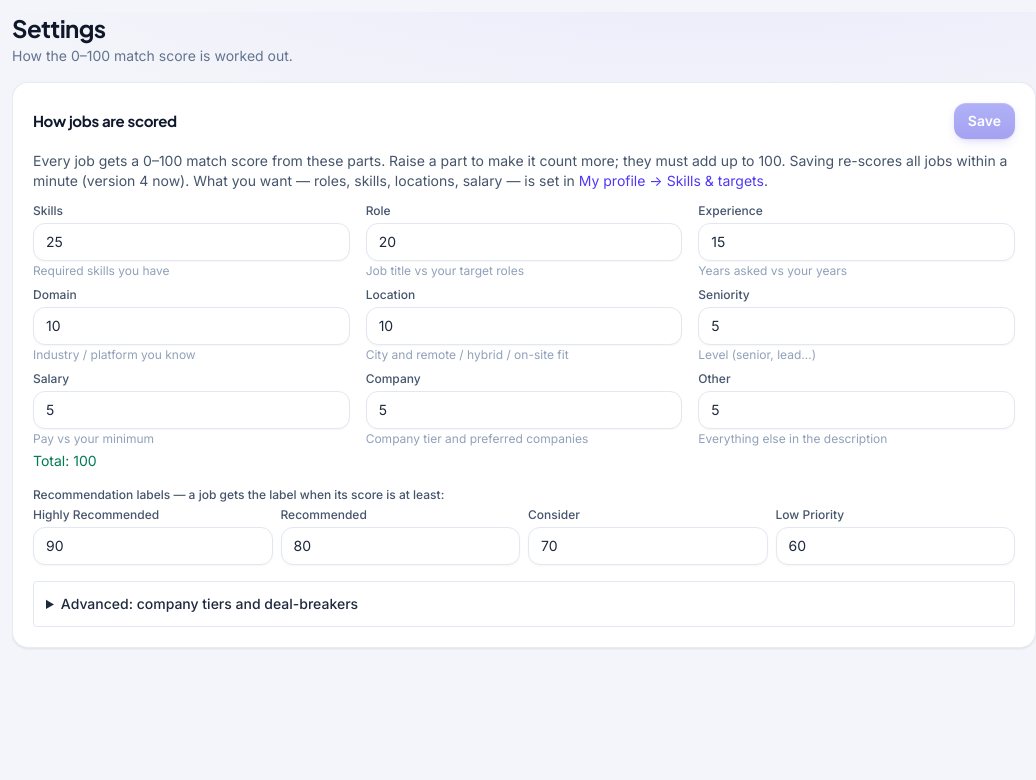
Scenario: settings › scoring: explains each part, saves only real changes, can undo
This screenshot has width=1036, height=780.
Expected: the text "Required skills you have" is shown, [33,263,170,278]
Expected: the button "Save" is disabled, [954,103,1015,139]
Clear the number field named "Skills weight" at (191, 242), box [33,223,350,261]
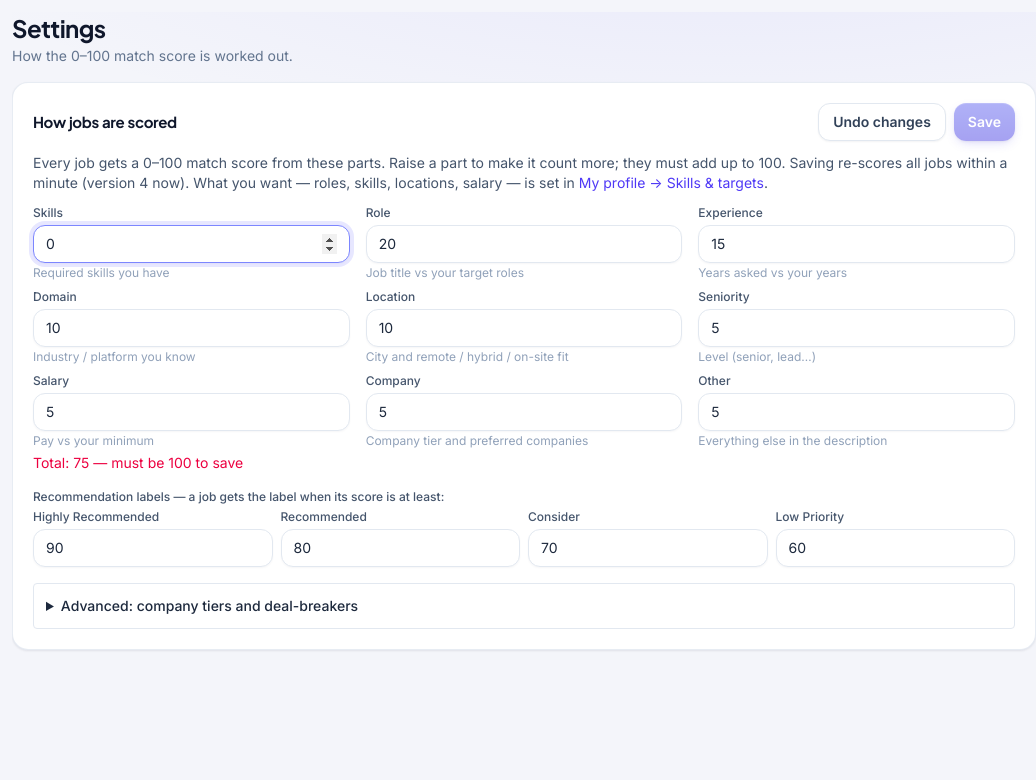
Type "30" into the number field named "Skills weight".
click(191, 244); type("30")  # box [33,225,350,263]
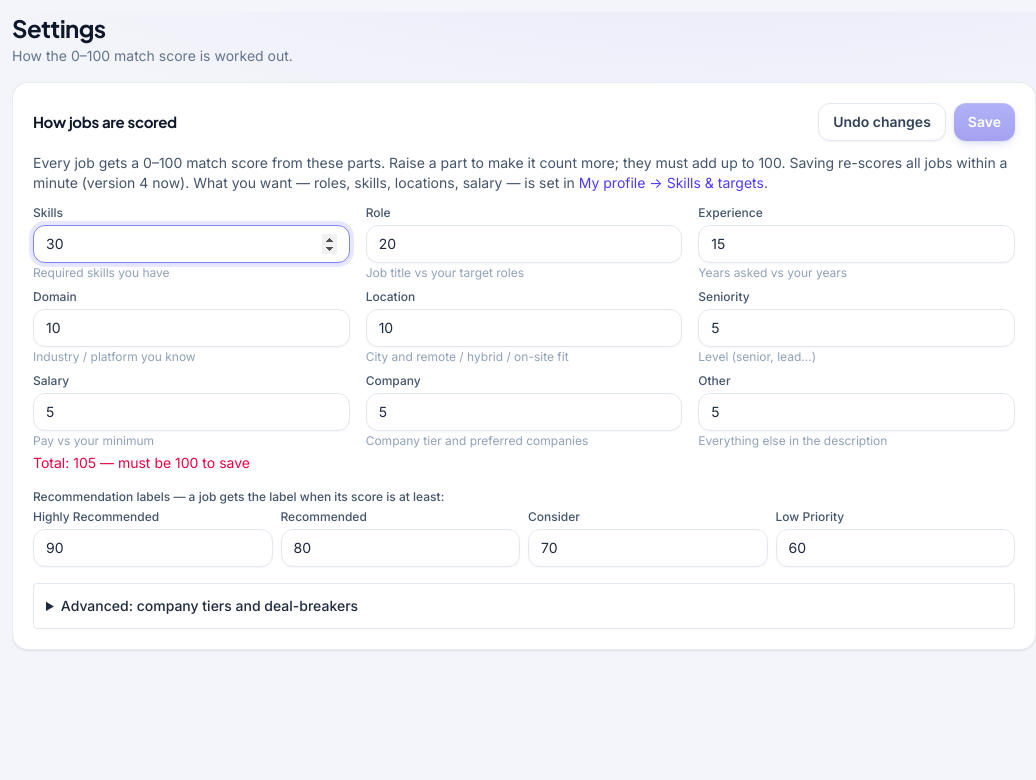
Expected: the button "Save" is disabled, [954,103,1015,141]
Expected: the text "Total: 105 — must be 100 to save" is shown, [33,454,250,471]
Click the button "Undo changes".
click(882, 122)  # box [818,103,946,141]
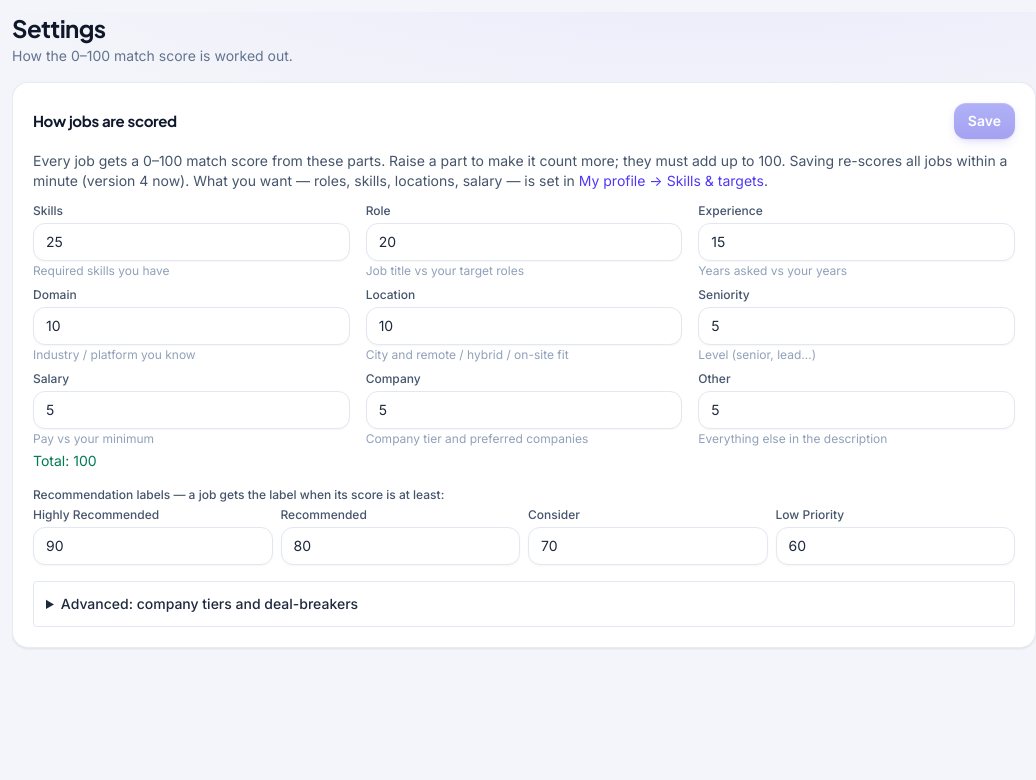
Expected: the number field named "Skills weight" holds "25", [33,223,350,261]
